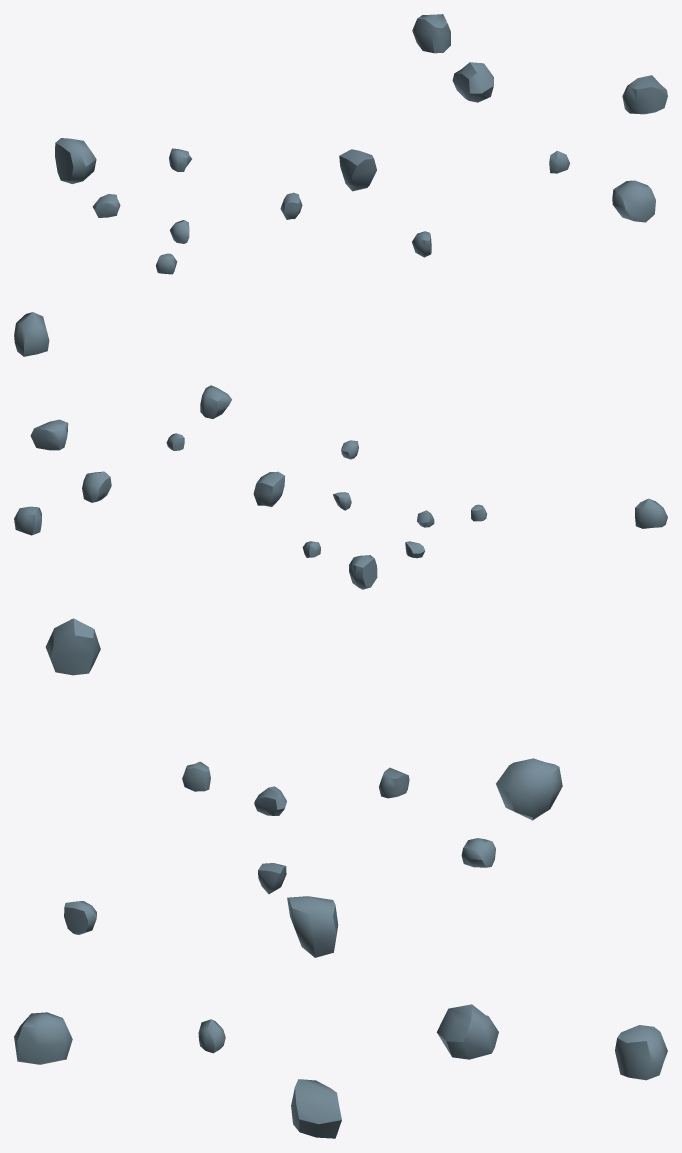
The model's file is rocks.fbx.
3 views of the same model, one above another, from view 1: azimuth 30°, elevation 25°; view 2: azimuth 150°, elevation 25°; view 3: azimuth 270°, elevation 25° (orthographic). The views are drawn at different scales.
Parts seen in each view (by area): view 1: Rock.004, Rock.006, Rock.002, Rock.007, Rock.005, Rock.003, Rock.001, Rock.009; view 2: Rock.002, Rock.001, Rock.004, Rock.005, Rock.006, Rock.007, Rock.003; view 3: Rock.004, Rock.007, Rock.006, Rock.002, Rock.001, Rock.005, Rock.003, Rock.011, Rock.013.
Part boxes in pixels (x1,y1,x2,y2): Rock.004: [55, 138, 96, 183]; Rock.006: [612, 180, 655, 222]; Rock.002: [622, 75, 667, 114]; Rock.007: [452, 62, 493, 102]; Rock.005: [14, 312, 49, 356]; Rock.003: [412, 14, 450, 53]; Rock.001: [339, 149, 376, 191]; Rock.009: [92, 194, 120, 217]; Rock.002: [30, 419, 68, 450]; Rock.001: [253, 471, 284, 506]; Rock.004: [349, 555, 377, 589]; Rock.005: [635, 498, 667, 528]; Rock.006: [200, 385, 231, 418]; Rock.007: [82, 471, 111, 502]; Rock.003: [14, 506, 41, 535]; Rock.004: [496, 758, 562, 820]; Rock.007: [436, 1004, 498, 1059]; Rock.006: [14, 1012, 72, 1064]; Rock.002: [291, 1079, 341, 1138]; Rock.001: [287, 896, 338, 957]; Rock.005: [45, 618, 100, 675]; Rock.003: [615, 1025, 667, 1080]; Rock.011: [64, 901, 96, 934]; Rock.013: [461, 838, 495, 867].
Size of the model in its own units: 7.81 by 0.4786 by 4.4.
